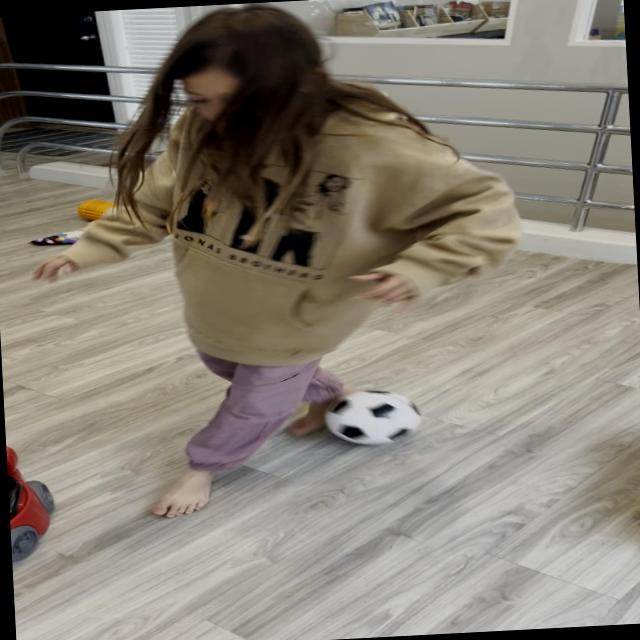Soccer Ball: (322, 387, 423, 448)
